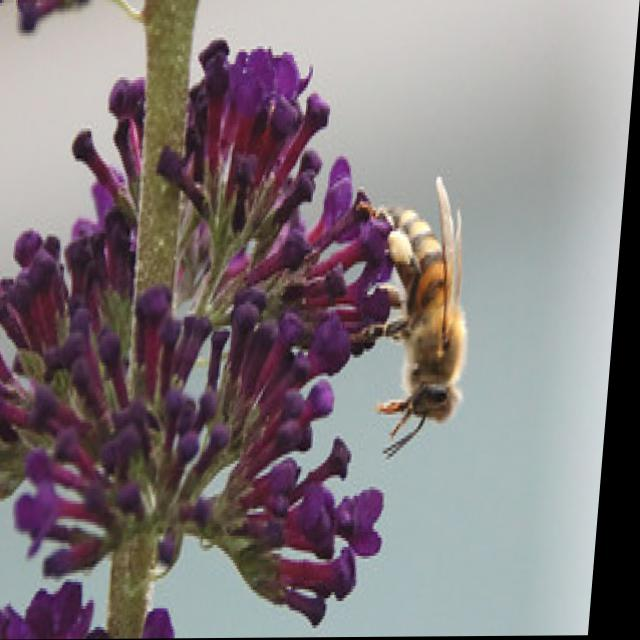Abeille: (346, 179, 513, 454)
